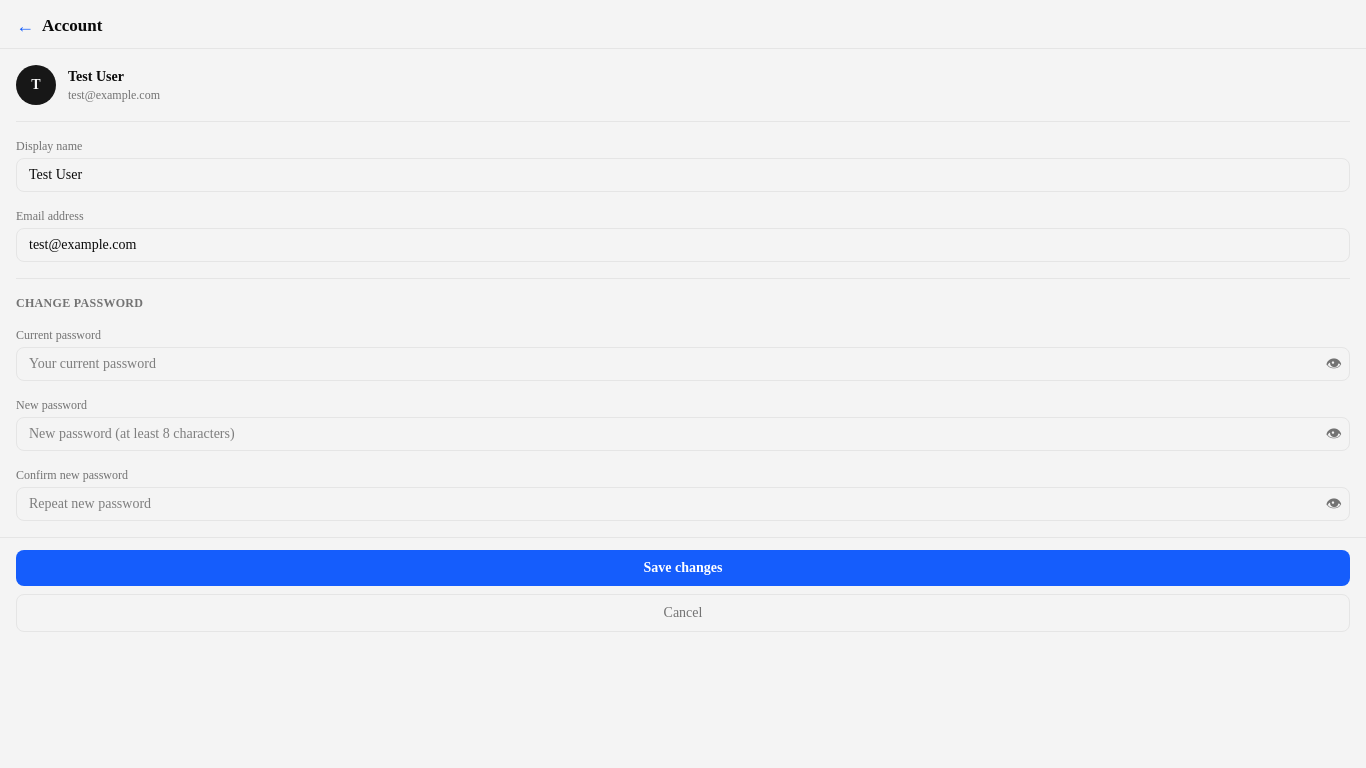
Test case: MobileAccount › shows password mismatch error
Type "password123" into the password field with placeholder "New password (at least 8 characters)". click: (683, 434)
box: [16,417,1350,451]
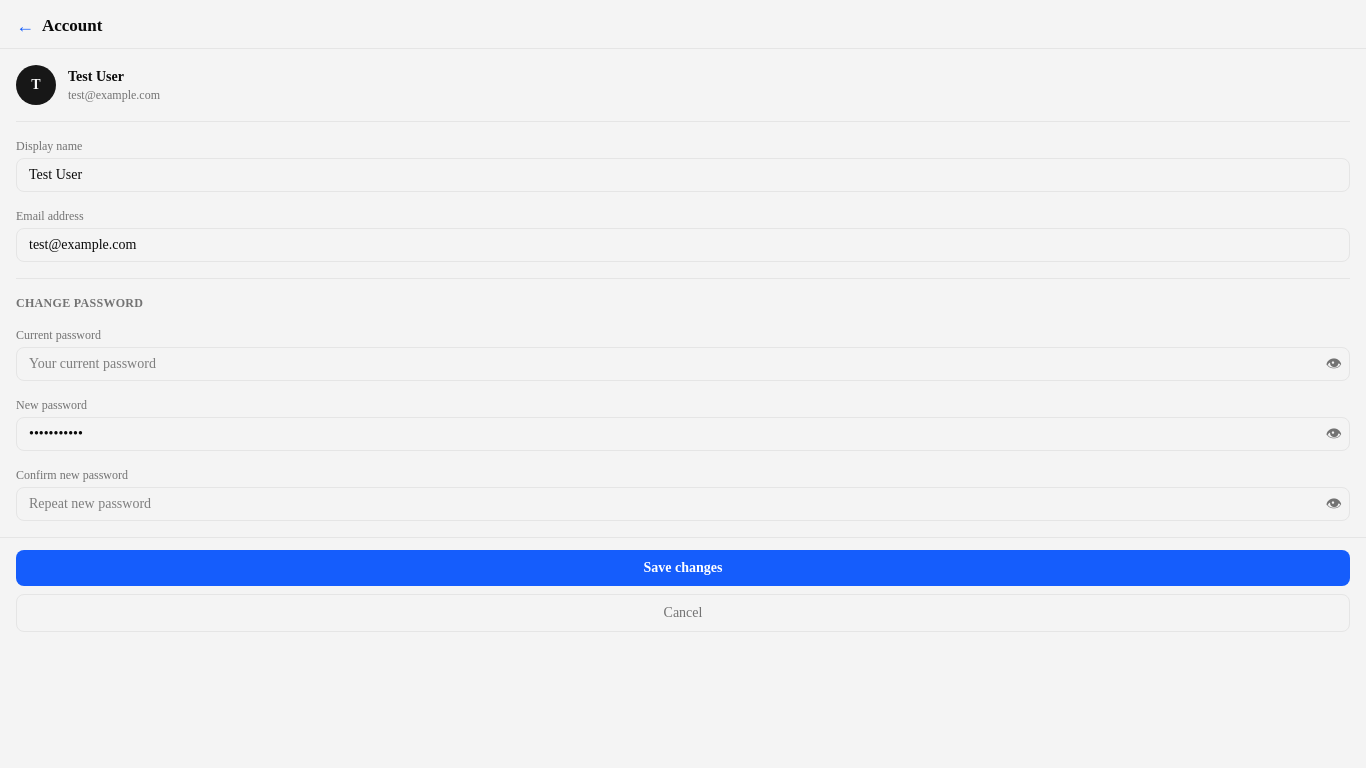
Type "different" into the password field with placeholder "Repeat new password". click: (683, 504)
box: [16,487,1350,521]
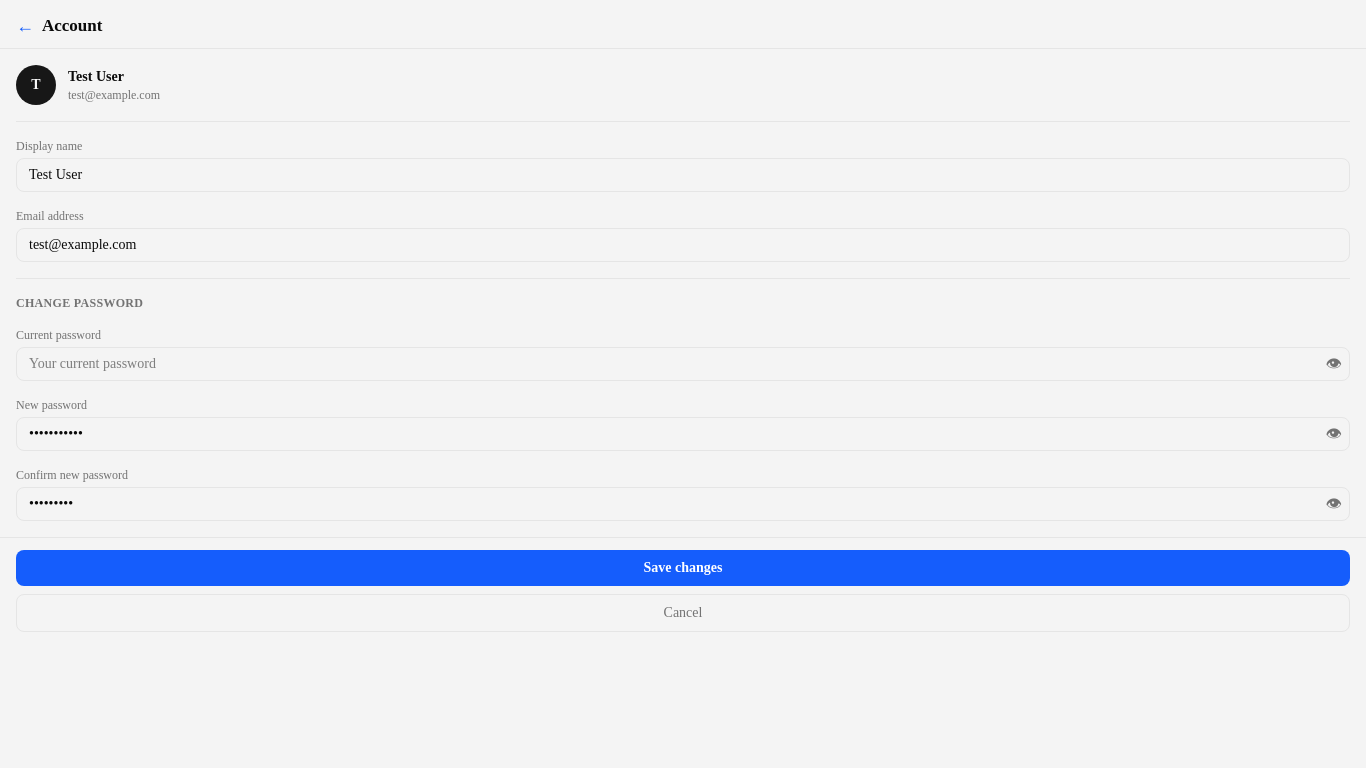
Click the button "Save changes". click: (683, 568)
box: [16,550,1350,586]
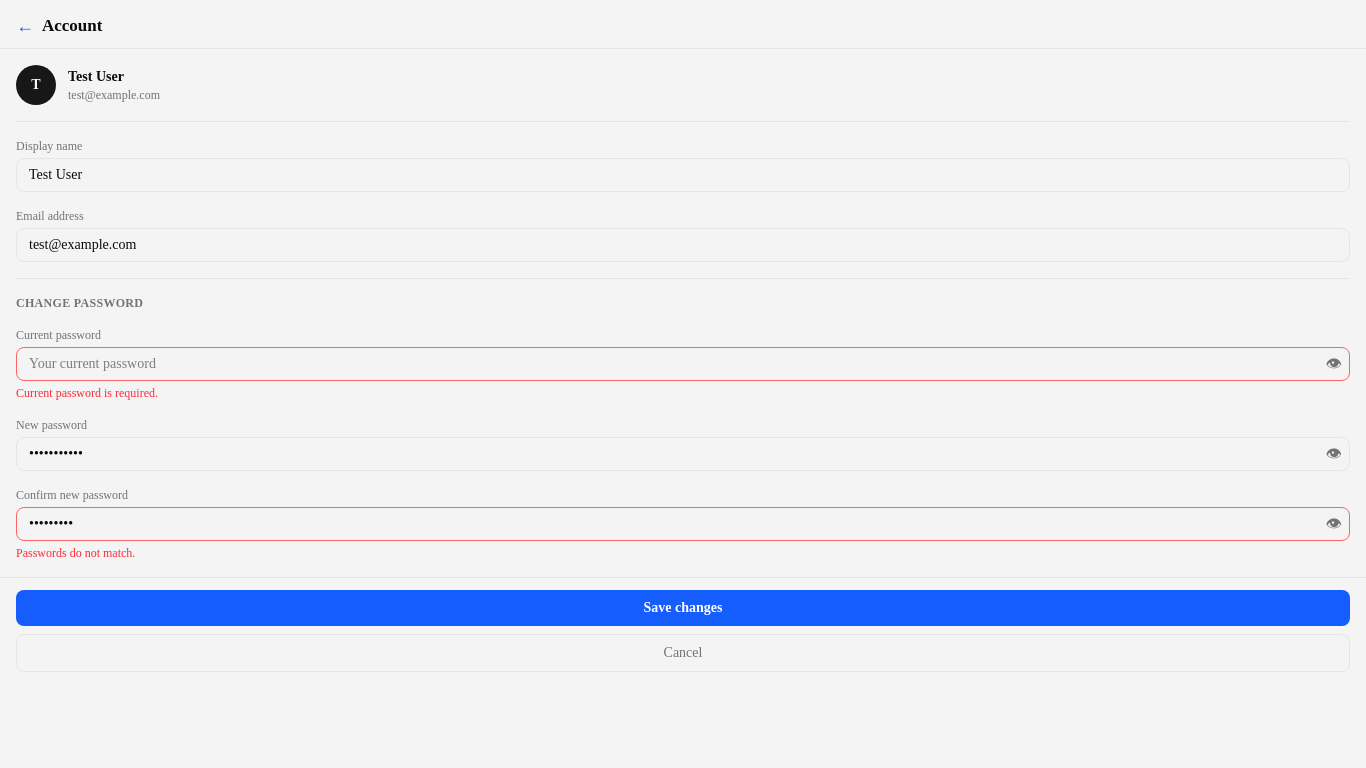
Expected: the text "Passwords do not match." is shown, [16,546,135,560]
